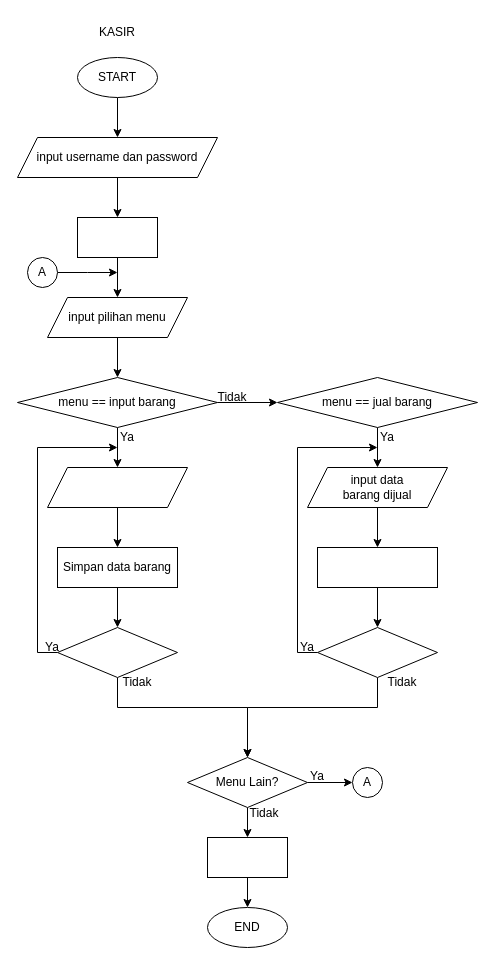
Some shapes in this 495 by 965 pixel diagram are drawn without their labels. The centre of each missing label's shape, as x and y in pixels:
input data barang: (x=117, y=487)
Input lagi?: (x=117, y=652)
jual barang: (x=377, y=567)
jual lagi?: (x=377, y=652)
Login: (x=117, y=237)
Logout: (x=247, y=857)
